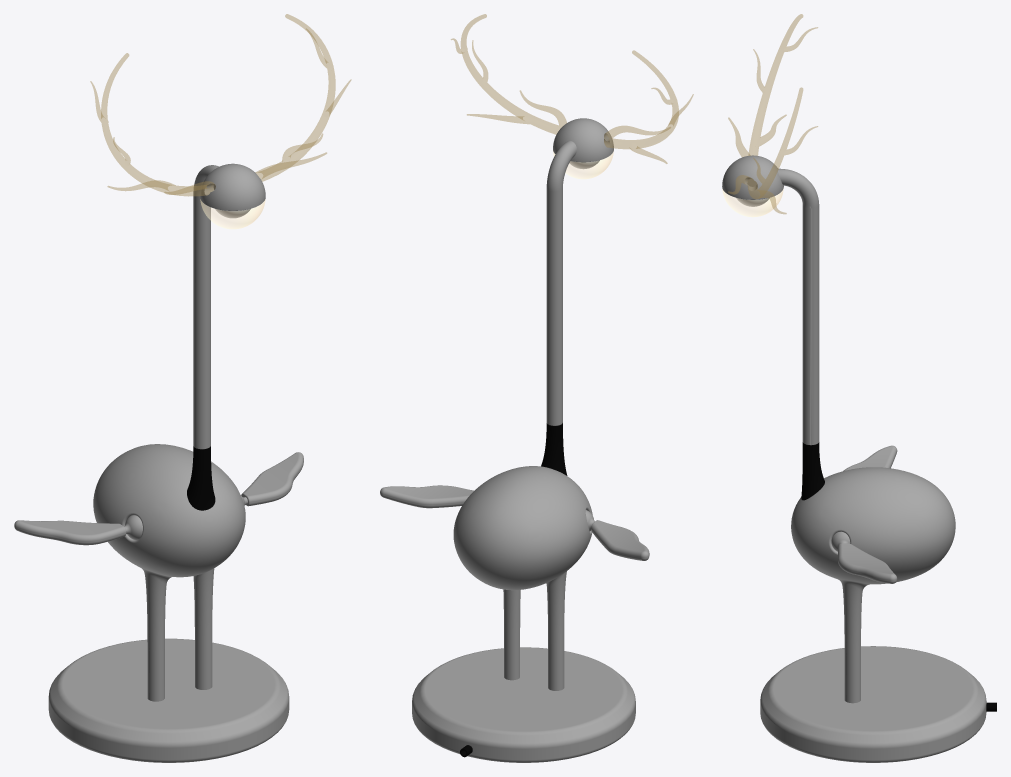
Rendered from goose.glb.
3 views of the same model, side by side, from view 1: azimuth 30°, elevation 25°; view 2: azimuth 150°, elevation 25°; view 3: azimuth 270°, elevation 25° (orthographic). The views are drawn at different scales.
Visible parts, largest first — view 1: Body11, Body2, Body30, Body6, Body25, Body29, Body16, Body12, Body3, Body31; view 2: Body11, Body2, Body30, Body25, Body6, Body29, Body12, Body16, Body3, Body31; view 3: Body11, Body2, Body30, Body6, Body29, Body25, Body12, Body3, Body31, Body16.
Part boxes in pixels (box(x1,y1,x2,y2)): Body11: box(48, 638, 289, 762); Body2: box(93, 444, 245, 701); Body30: box(193, 165, 219, 449); Body6: box(200, 163, 265, 210); Body25: box(255, 14, 351, 181); Body29: box(90, 53, 215, 196); Body16: box(14, 520, 126, 545); Body12: box(241, 452, 303, 506); Body3: box(187, 446, 215, 510); Body31: box(200, 199, 265, 228); Body11: box(412, 647, 635, 762); Body2: box(453, 466, 592, 690); Body30: box(546, 141, 576, 425); Body25: box(451, 14, 566, 134); Body6: box(553, 118, 613, 162); Body29: box(604, 50, 693, 163); Body12: box(380, 485, 473, 508); Body16: box(591, 520, 649, 560); Body3: box(541, 423, 567, 475); Body31: box(553, 152, 613, 178); Body11: box(760, 646, 986, 762); Body2: box(791, 467, 955, 703); Body30: box(777, 168, 819, 445); Body6: box(722, 155, 783, 199); Body29: box(728, 14, 817, 156); Body25: box(728, 87, 817, 213); Body12: box(838, 543, 897, 583); Body3: box(801, 442, 824, 500); Body31: box(722, 189, 783, 216); Body16: box(843, 445, 897, 470).
Bounding box in the file's own units: 0.3038 × 0.7142 × 0.267.
Materials: 7 (1 with a texture image).
